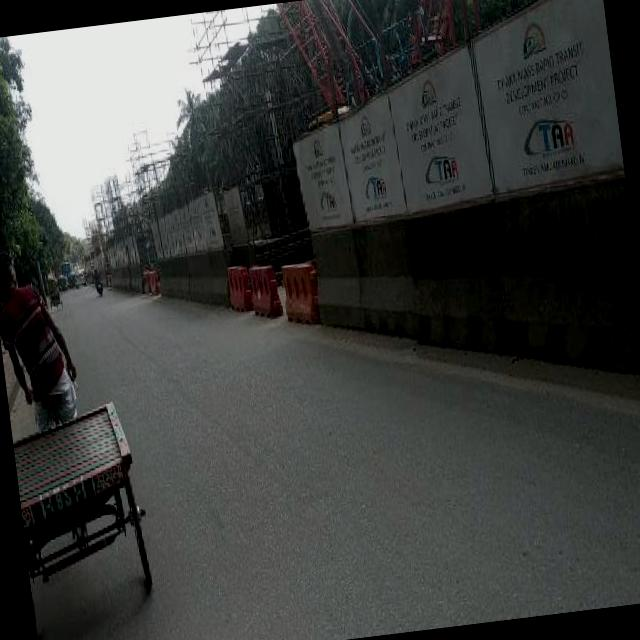car: (72, 270, 85, 288), (65, 270, 74, 286)
motorcycle: (46, 275, 62, 312), (90, 263, 104, 298), (58, 274, 68, 293)
